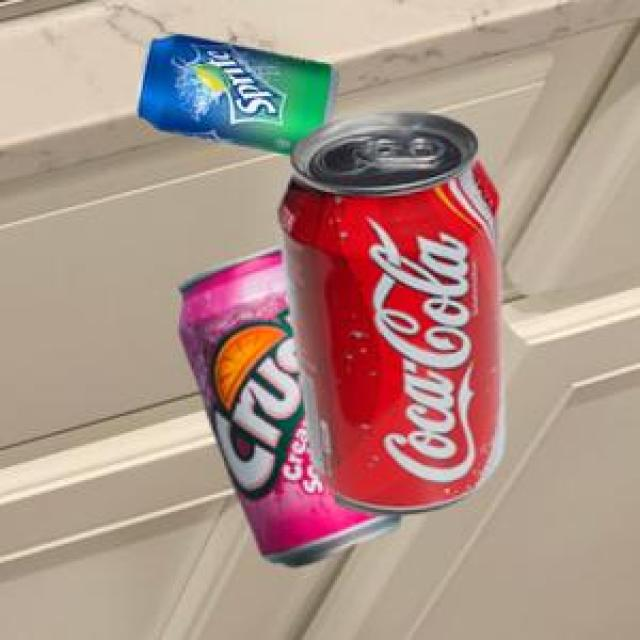logam: (276, 110, 500, 513), (176, 242, 398, 562), (133, 31, 334, 153)
